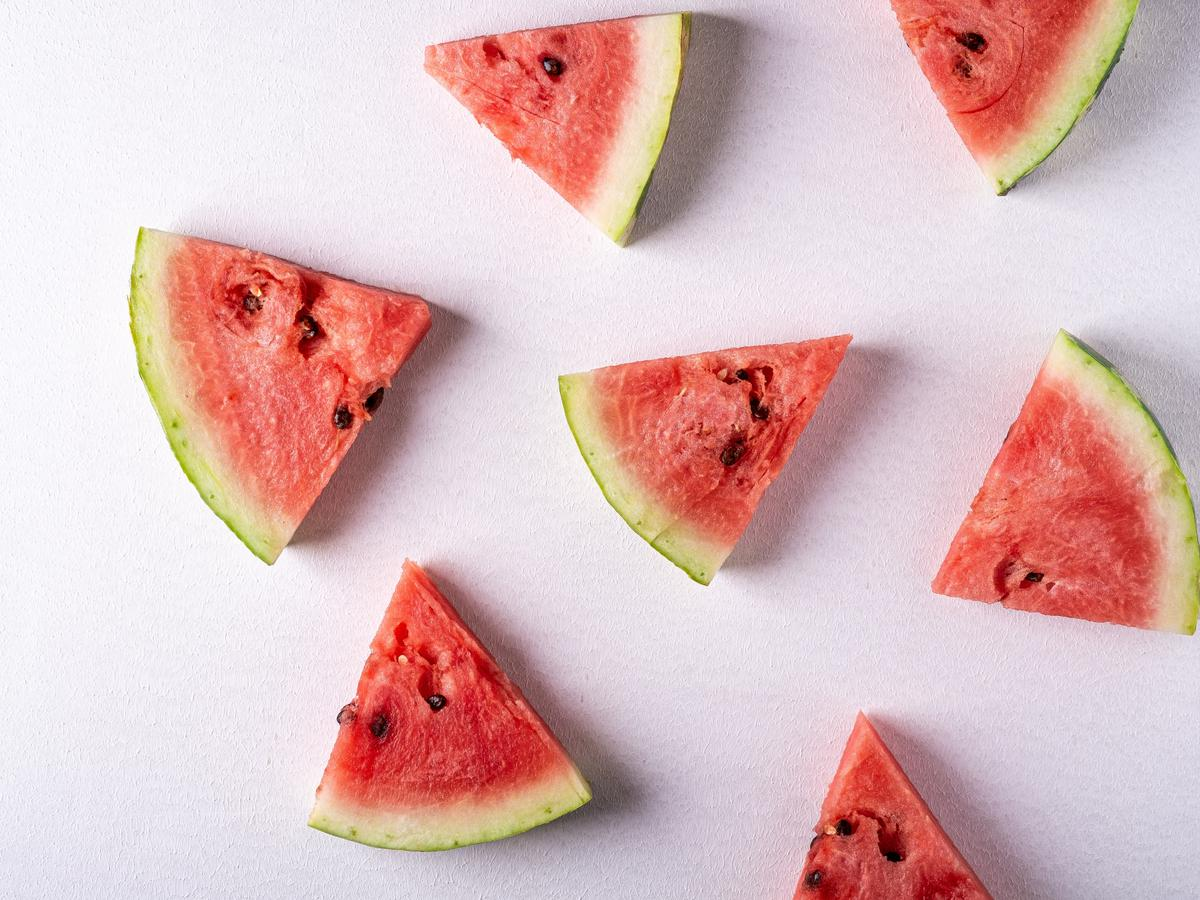Semangka: (904, 315, 1200, 700), (508, 312, 867, 626), (397, 21, 817, 270), (120, 243, 457, 550), (297, 534, 579, 862), (787, 675, 1020, 900)
